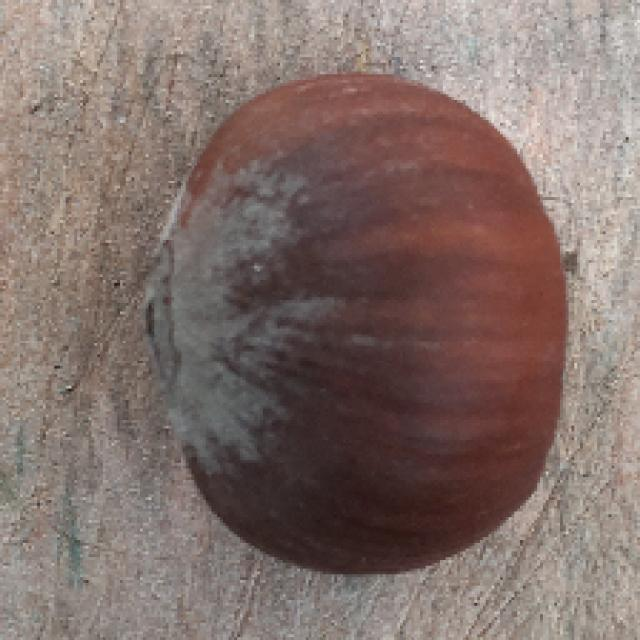DamagedHazelnut: (137, 71, 572, 574)
